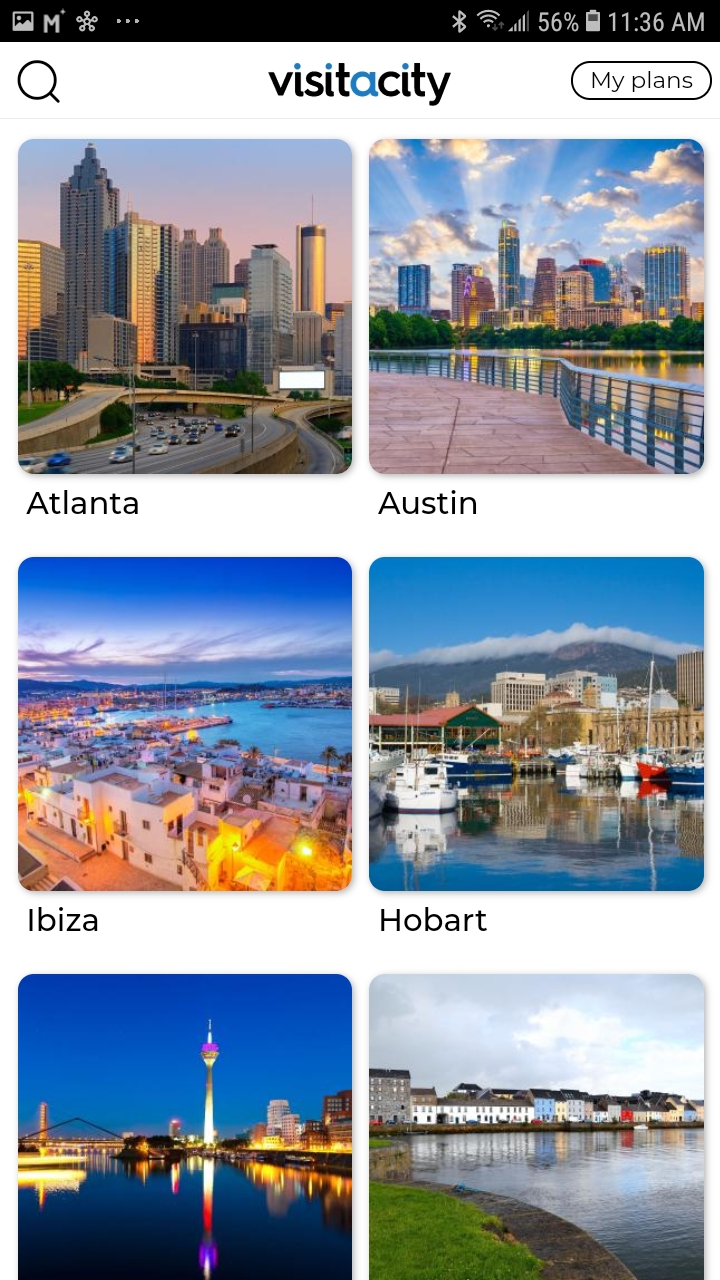Icon: (18, 60, 62, 104)
Image: (369, 139, 705, 475), (369, 557, 705, 892), (19, 139, 353, 475), (19, 557, 353, 892), (369, 974, 705, 1280), (18, 974, 353, 1280), (268, 63, 452, 108)
Text: (27, 490, 140, 515), (381, 906, 488, 932), (378, 489, 477, 515), (29, 906, 99, 932)
TextButton: (571, 62, 713, 102)
UpperTaskBar: (1, 1, 720, 43)
